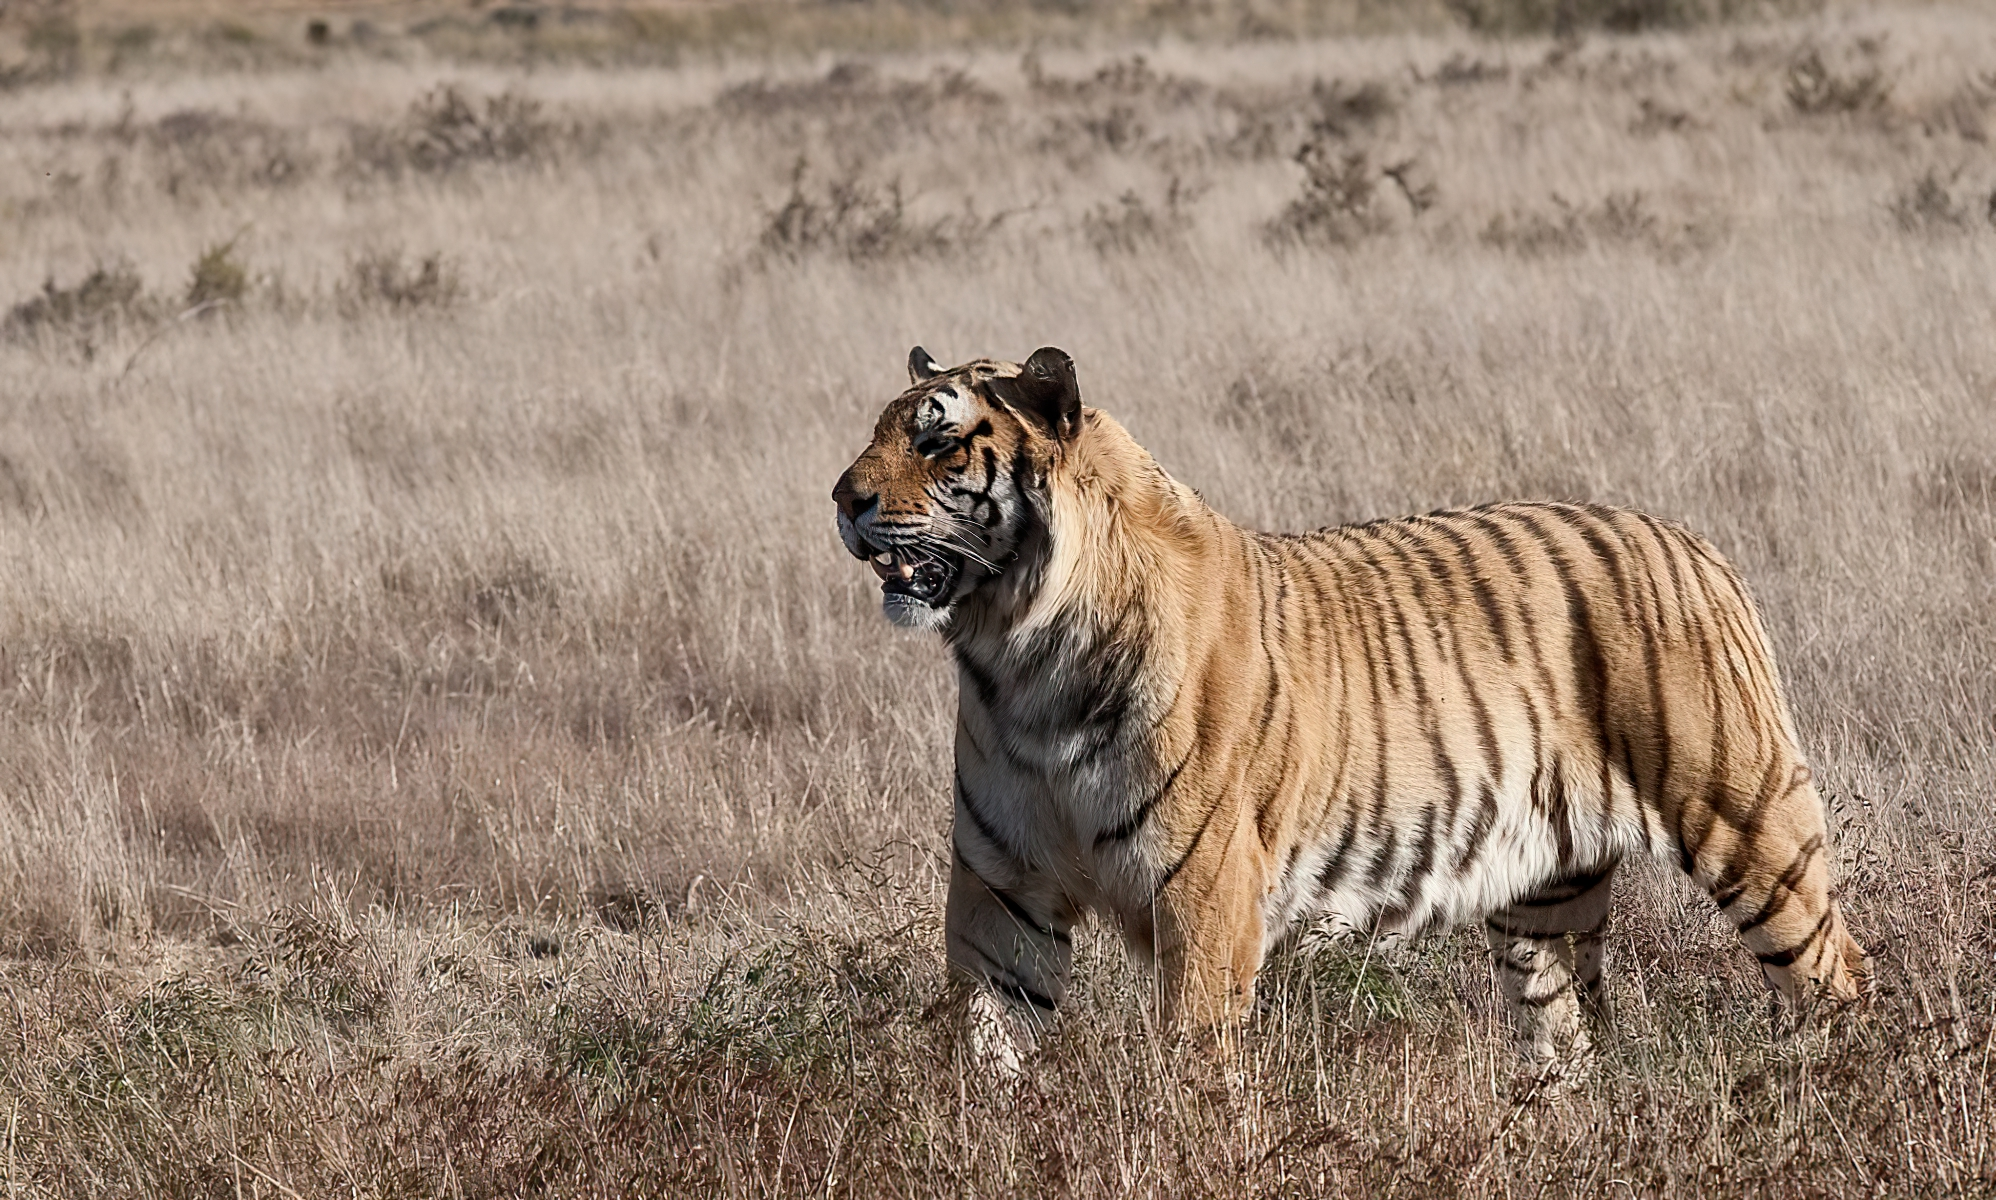tiger: (770, 325, 1883, 1152)
